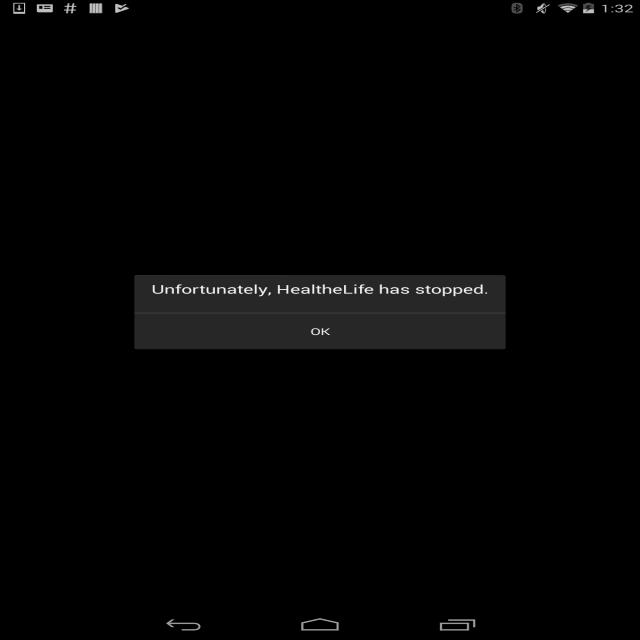TextView: (144, 278, 495, 304), (304, 322, 337, 339)
